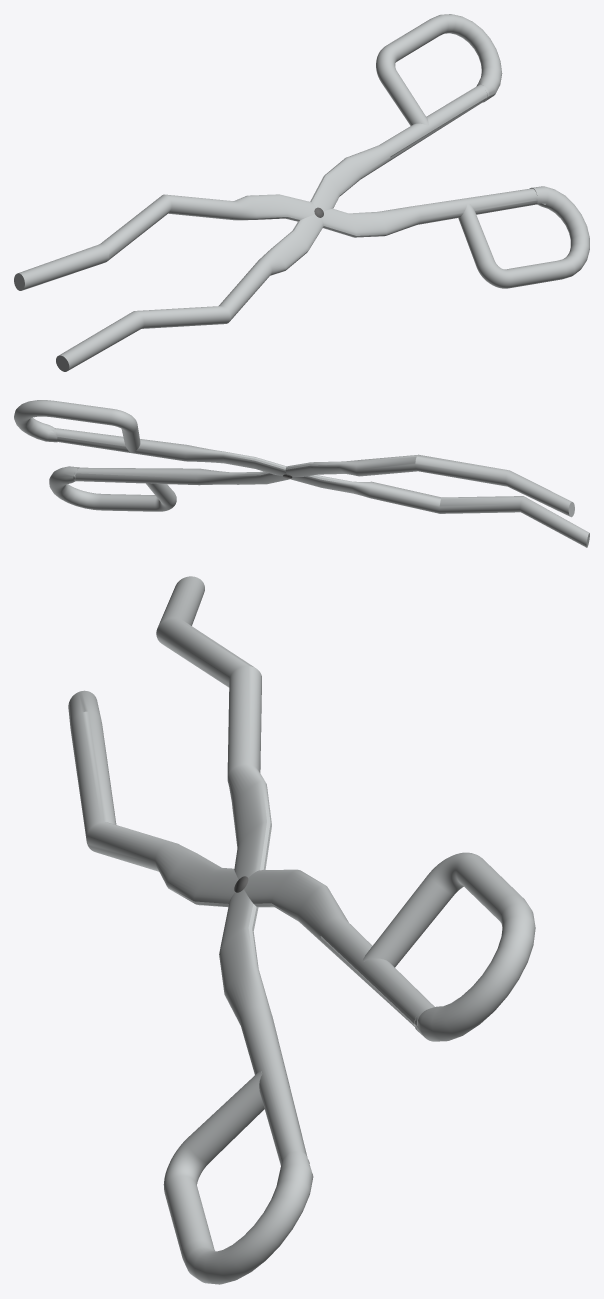
The model's file is CrucibleTongs.gltf.
3 views of the same model, one above another, from view 1: azimuth 30°, elevation 25°; view 2: azimuth 150°, elevation 25°; view 3: azimuth 270°, elevation 25° (orthographic). The views are drawn at different scales.
Parts seen in each view (by area): view 1: Cylinder.079, Cylinder.080; view 2: Cylinder.080, Cylinder.079; view 3: Cylinder.079, Cylinder.080.
Boxes of the visible parts, x1,y1,x2,y2 form: Cylinder.079: (14, 186, 589, 290); Cylinder.080: (56, 14, 502, 371); Cylinder.080: (14, 400, 589, 547); Cylinder.079: (49, 454, 574, 517); Cylinder.079: (156, 576, 313, 1284); Cylinder.080: (68, 690, 535, 1041).
Bounding box in the file's own units: 0.3937 × 0.1294 × 0.1582.
2 materials, 2 textured.
